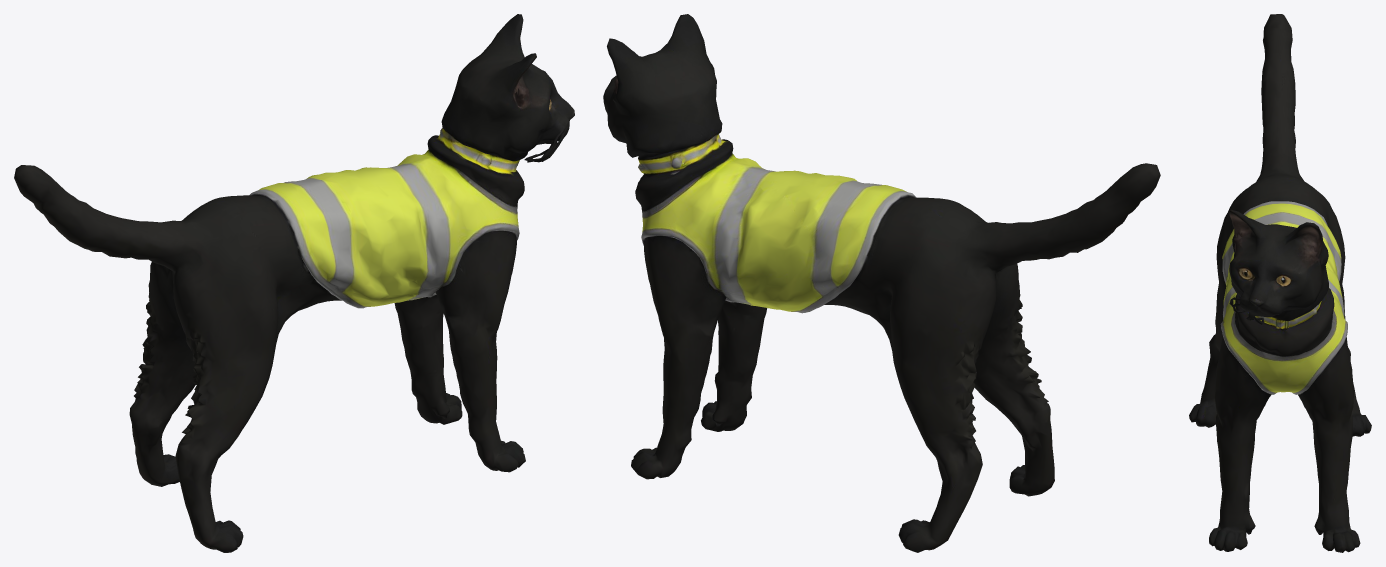
The model's file is ROLFCAT.glb.
3 renders of one model, left to right at view 1: azimuth 30°, elevation 25°; view 2: azimuth 150°, elevation 25°; view 3: azimuth 270°, elevation 25°, orthographic. The views are drawn at different scales.
Visible parts, largest first — view 1: tripo_node_1b819205-4764-43b5-a8dd-c2b60633b822; view 2: tripo_node_1b819205-4764-43b5-a8dd-c2b60633b822; view 3: tripo_node_1b819205-4764-43b5-a8dd-c2b60633b822.
Part boxes in pixels (box(x1,y1,x2,y2)): tripo_node_1b819205-4764-43b5-a8dd-c2b60633b822: box(14, 14, 574, 552); tripo_node_1b819205-4764-43b5-a8dd-c2b60633b822: box(603, 14, 1160, 552); tripo_node_1b819205-4764-43b5-a8dd-c2b60633b822: box(1189, 14, 1371, 552).
Size of the model in its own units: 1.42 by 1 by 0.4696.
1 material, 1 textured.
